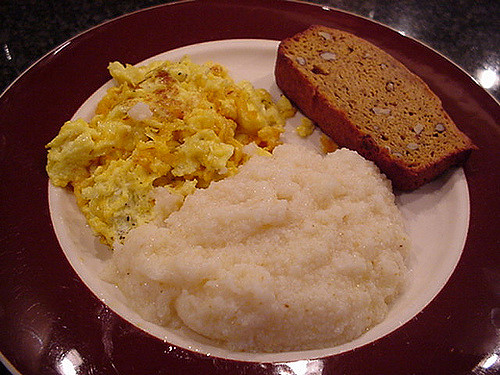fried egg: (118, 76, 214, 161)
plain rice: (216, 230, 369, 309)
slice of bread: (274, 27, 487, 192)
